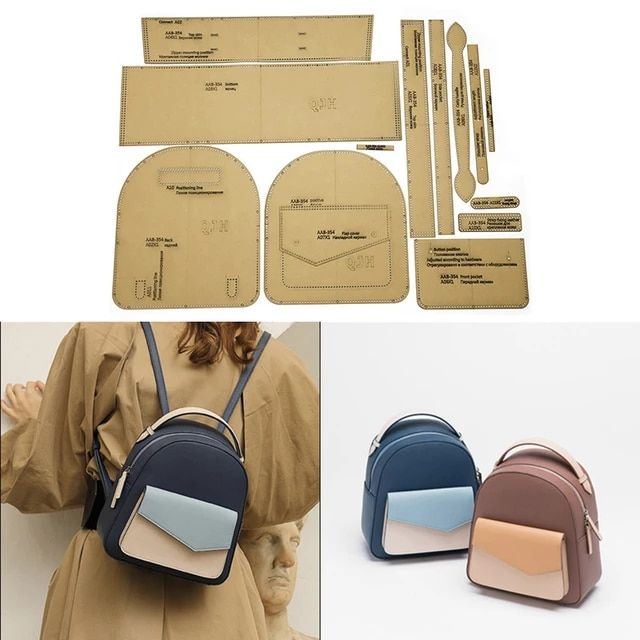cuero: (84, 323, 602, 607)
